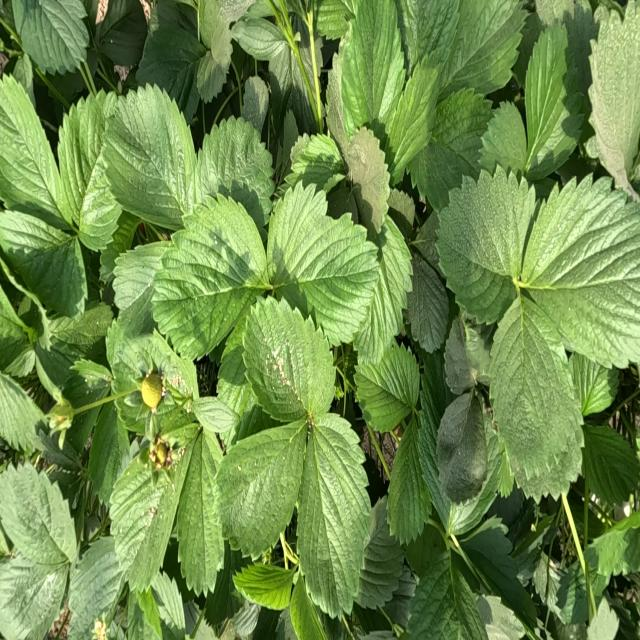Leaves: (521, 179, 639, 367), (489, 301, 583, 498), (268, 181, 379, 345), (153, 197, 265, 359), (437, 168, 535, 323), (108, 432, 199, 597), (298, 414, 371, 613), (0, 464, 76, 639), (104, 86, 195, 230), (216, 419, 307, 556), (244, 297, 335, 423), (57, 91, 122, 249), (341, 0, 406, 153), (111, 325, 199, 433), (412, 89, 491, 208), (588, 7, 639, 187), (0, 76, 61, 222), (197, 117, 274, 224), (355, 217, 411, 364), (524, 24, 575, 179), (443, 1, 526, 95), (177, 431, 223, 595), (461, 530, 535, 625), (407, 553, 486, 639), (0, 208, 78, 294), (437, 388, 490, 512), (388, 63, 442, 180), (536, 0, 598, 99), (68, 537, 127, 639), (268, 184, 328, 284), (13, 0, 88, 74), (417, 353, 450, 521), (355, 345, 419, 431), (136, 23, 202, 106), (387, 420, 431, 543), (39, 303, 112, 377), (357, 500, 403, 608), (344, 127, 390, 235), (582, 423, 639, 504), (396, 0, 460, 68), (407, 257, 449, 352), (89, 403, 129, 502), (113, 241, 170, 309), (444, 313, 490, 394), (95, 0, 147, 67), (1, 374, 44, 450), (481, 102, 527, 173), (593, 510, 639, 577), (288, 135, 343, 188), (233, 563, 295, 610), (571, 356, 618, 415), (1, 288, 32, 373), (290, 577, 330, 639), (231, 17, 288, 60), (151, 569, 184, 638), (553, 561, 588, 623), (290, 61, 319, 134), (66, 360, 111, 407), (268, 44, 294, 119), (192, 396, 235, 434), (197, 50, 227, 103), (209, 11, 232, 71), (243, 76, 267, 131), (199, 0, 223, 49), (318, 1, 348, 39), (587, 563, 609, 604), (233, 602, 259, 636)
Strawberries: (141, 374, 163, 409), (150, 443, 167, 465)
